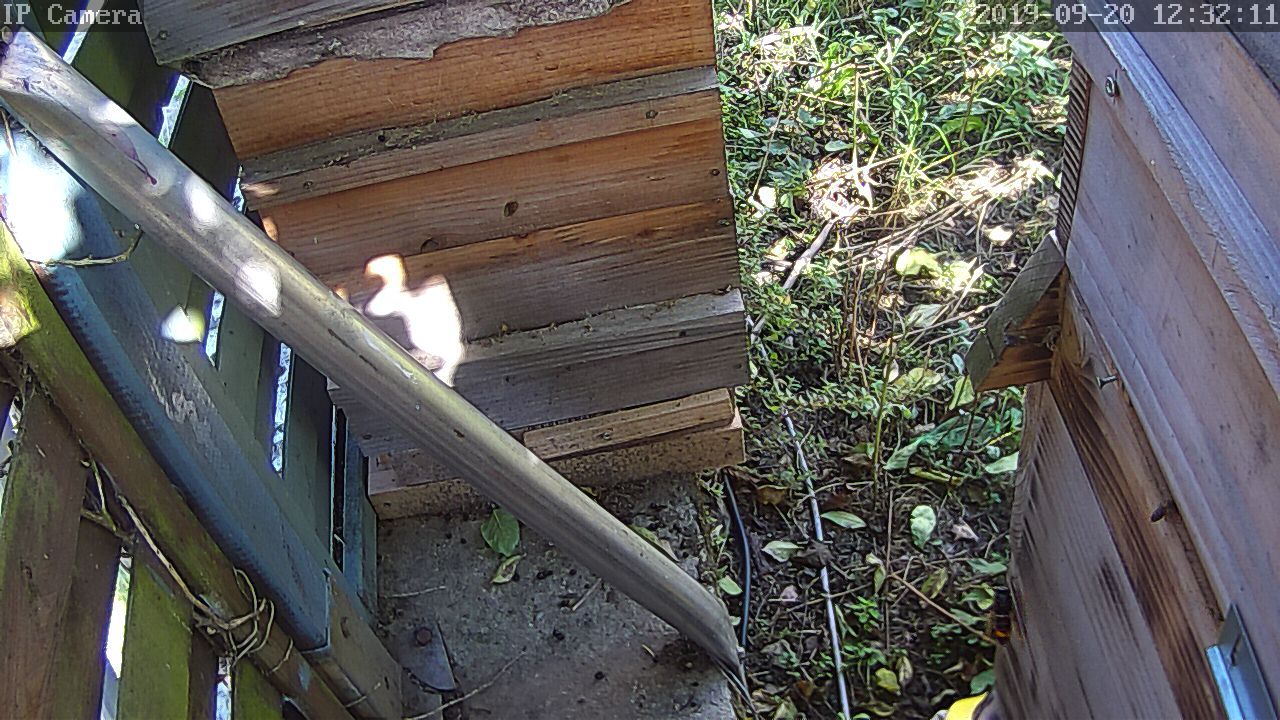bee: (1147, 491, 1182, 528)
hornet: (985, 581, 1022, 652)
